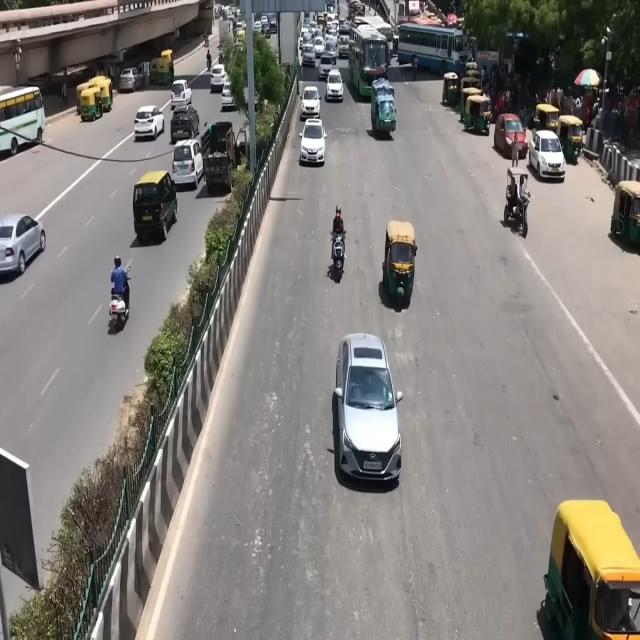auto: (545, 500, 640, 638), (382, 220, 417, 304), (610, 180, 640, 249), (150, 50, 174, 86), (90, 76, 113, 113)
bike-auto: (107, 262, 127, 348), (109, 266, 131, 328), (505, 183, 530, 237), (330, 226, 346, 274), (206, 50, 212, 71), (218, 48, 224, 64)
